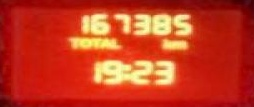1: (91, 59, 101, 85), (79, 11, 87, 32)
2: (131, 58, 152, 83)
3: (152, 58, 172, 83), (130, 12, 149, 35)
5: (171, 12, 191, 35)
6: (89, 11, 109, 35)
7: (112, 11, 129, 33)
8: (151, 11, 171, 35)
9: (101, 57, 121, 83)
X: (77, 35, 91, 49), (171, 39, 187, 49), (66, 35, 77, 49), (161, 36, 171, 50), (122, 61, 129, 80), (109, 36, 120, 48), (90, 35, 99, 49), (100, 36, 109, 48)
